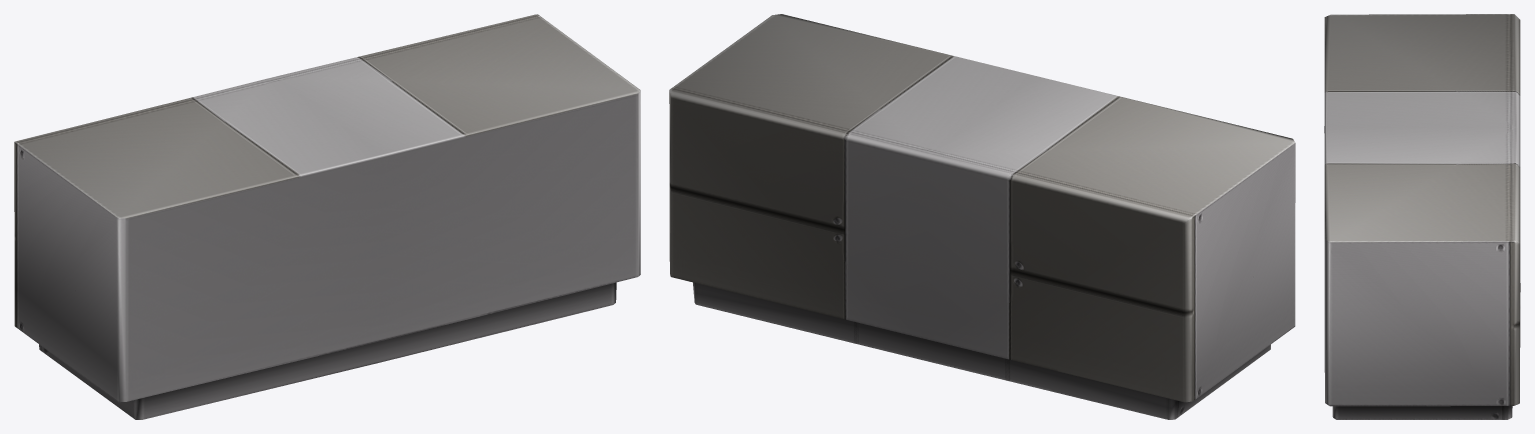
The model's file is Drawer5.fbx.
The picture shows the model from 3 angles, left to right: view 1: azimuth 30°, elevation 25°; view 2: azimuth 150°, elevation 25°; view 3: azimuth 270°, elevation 25°; orthographic projection. The views are drawn at different scales.
Visible parts, largest first — view 1: Drawer5:RetopoGroup1; view 2: Drawer5:RetopoGroup1; view 3: Drawer5:RetopoGroup1.
Part boxes in pixels (bbox=[...]): Drawer5:RetopoGroup1: bbox=[14, 14, 640, 419]; Drawer5:RetopoGroup1: bbox=[669, 14, 1295, 419]; Drawer5:RetopoGroup1: bbox=[1324, 14, 1520, 419].
Size of the model in its own units: 247 by 95.37 by 89.98.
